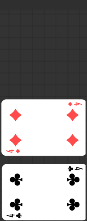4C: (66, 165, 83, 173)
4D: (66, 101, 83, 108)
